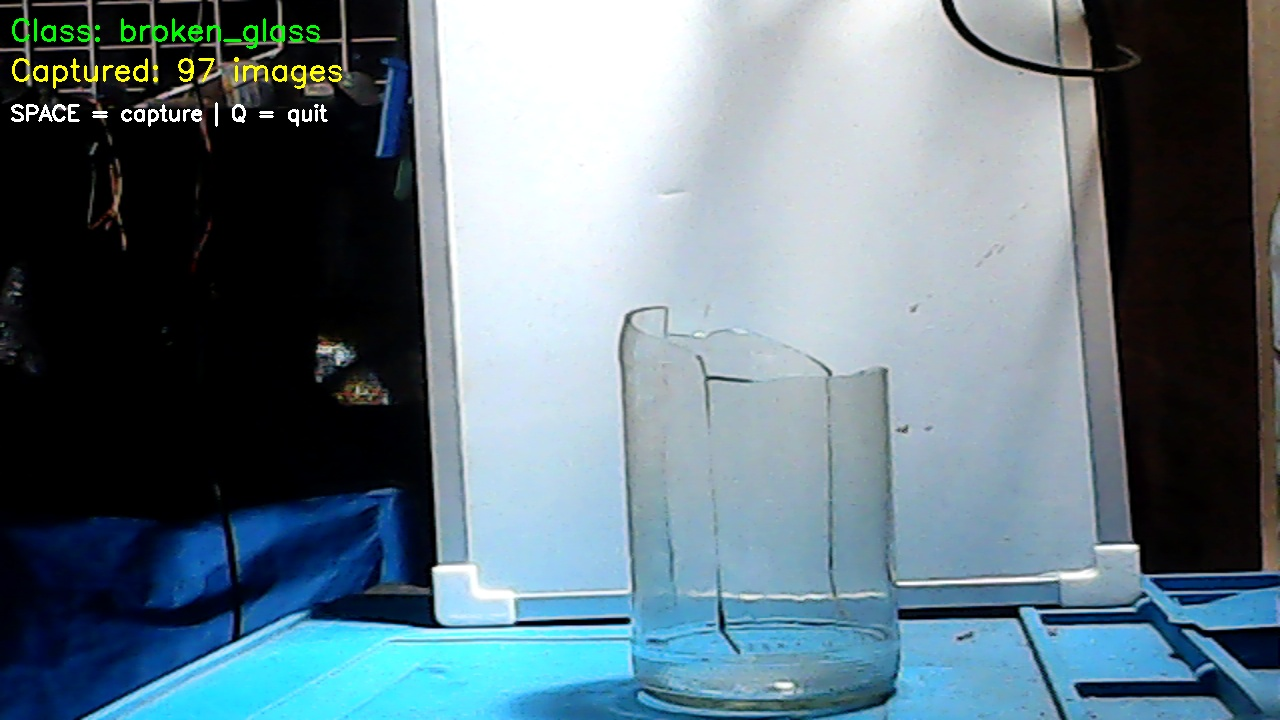broken_glass: (620, 249, 923, 711)
